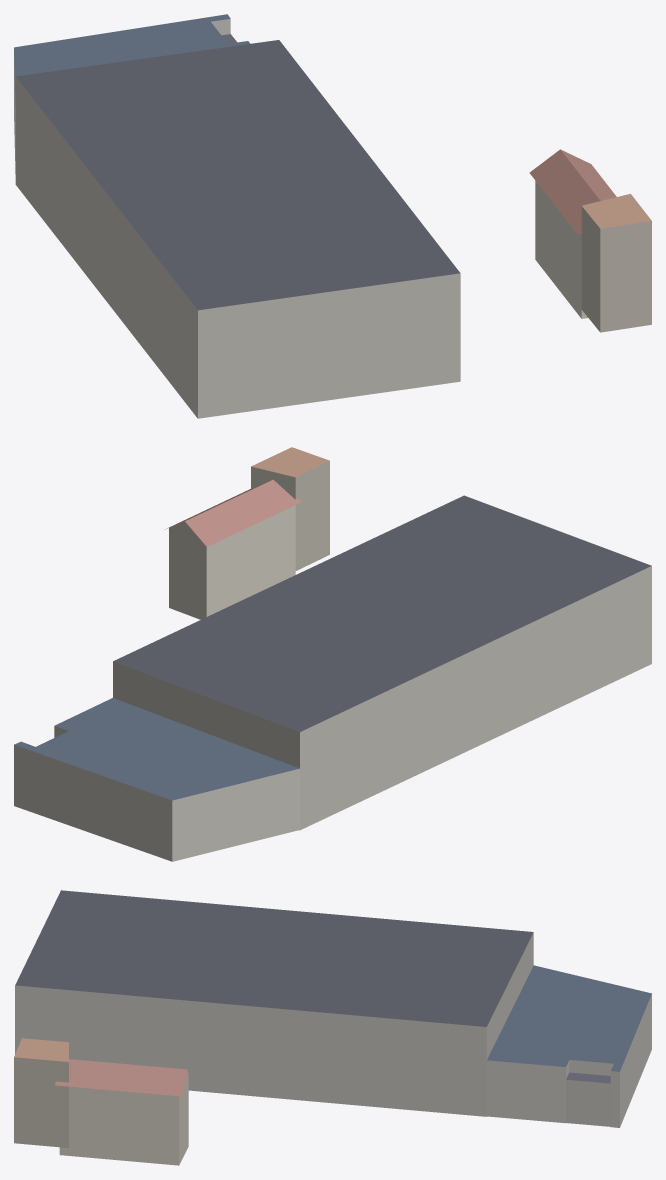
3 renders of one model, top to bottom at view 1: azimuth 30°, elevation 25°; view 2: azimuth 150°, elevation 25°; view 3: azimuth 270°, elevation 25°, orthographic. The views are drawn at different scales.
Visible parts, largest first — view 1: tuile; view 2: tuile; view 3: tuile.
Boxes of the visible parts, box(x1,y1,x2,y2) form: tuile: box(14, 14, 651, 418); tuile: box(14, 447, 651, 861); tuile: box(14, 890, 651, 1165).
Bounding box in the file's own units: 38.92 × 9.14 × 55.6.
